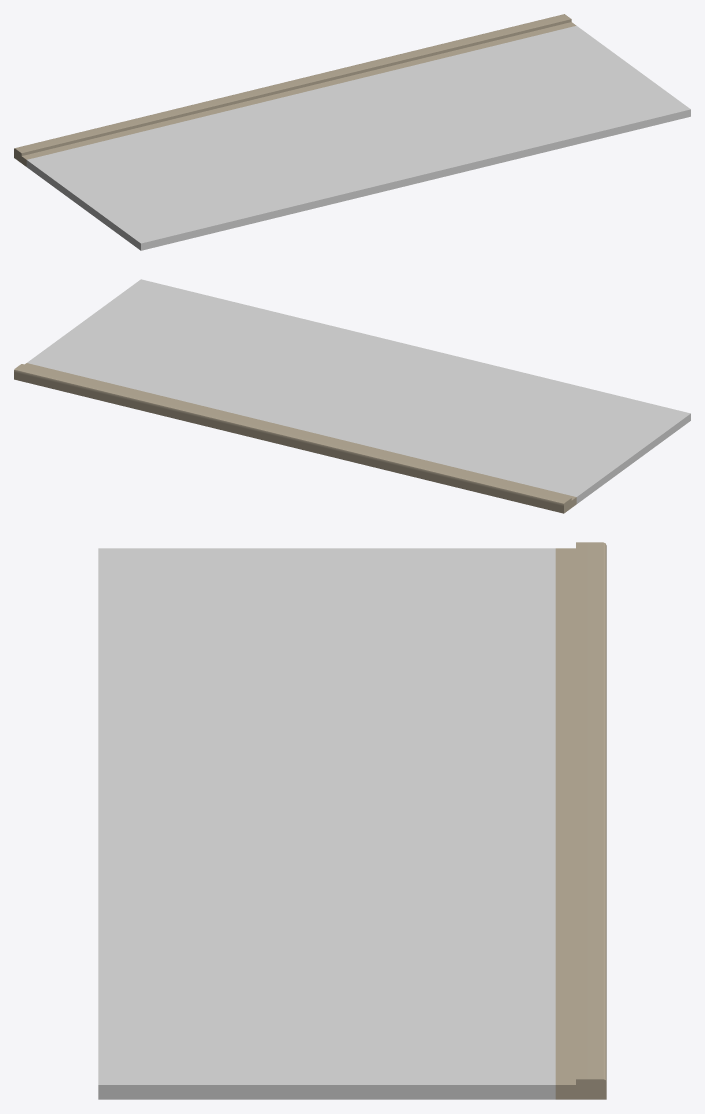
Rendered from SIDEWALK_Unaatached_02.fbx.
The picture shows the model from 3 angles, top to bottom: view 1: azimuth 30°, elevation 25°; view 2: azimuth 150°, elevation 25°; view 3: azimuth 270°, elevation 25°; orthographic projection. The views are drawn at different scales.
Visible parts, largest first — view 1: sidewalk_unattached1; view 2: sidewalk_unattached1; view 3: sidewalk_unattached1.
Boxes of the visible parts, bbox=[...] form: sidewalk_unattached1: bbox=[14, 14, 690, 250]; sidewalk_unattached1: bbox=[14, 279, 690, 513]; sidewalk_unattached1: bbox=[98, 542, 606, 1099].
Bounding box in the file's own units: 200 × 3.53 × 80.
